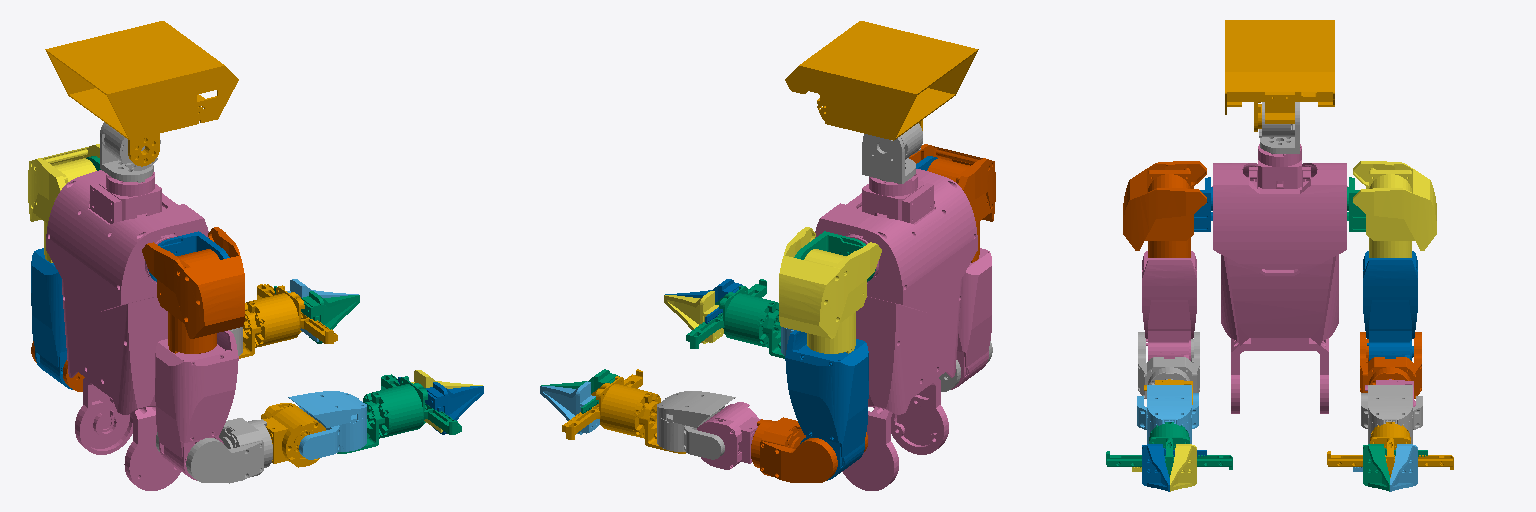
The robot description file, URDF, robot "ARX X7S":
<?xml version="1.0" ?>
<!-- =================================================================================== -->
<!-- |    This document was autogenerated by xacro from robot.xacro                    | -->
<!-- |    EDITING THIS FILE BY HAND IS NOT RECOMMENDED                                 | -->
<!-- =================================================================================== -->
<robot name="ARX X7S">
  <link name="base_link">
    <inertial>
      <origin xyz="-0.061403 0.00062999 0.18169"/>
      <mass value="27.286"/>
      <inertia ixx="1.61101" ixy="0.00464" ixz="-0.16195" iyy="1.99174" iyz="0.00823" izz="1.07279"/>
    </inertial>
    <visual>
      <geometry>
        <mesh filename="package://arx_x7s_description/meshes/base/base_link.obj"/>
      </geometry>
    </visual>
    <collision>
      <geometry>
        <mesh filename="package://arx_x7s_description/meshes/base/base_link.obj"/>
      </geometry>
    </collision>
  </link>
  <link name="lift">
    <inertial>
      <origin xyz="-0.010805 -0.00069779 -0.059694"/>
      <mass value="6.205"/>
      <inertia ixx="0.01994" ixy="-0.00008" ixz="-0.00198" iyy="0.06039" iyz="-0.00016" izz="0.06721"/>
    </inertial>
    <visual>
      <geometry>
        <mesh filename="package://arx_x7s_description/meshes/base/lift.obj"/>
      </geometry>
    </visual>
    <collision>
      <geometry>
        <mesh filename="package://arx_x7s_description/meshes/base/lift.obj"/>
      </geometry>
    </collision>
  </link>
  <joint name="lift_joint" type="prismatic">
    <origin xyz="0.096 0 0.31"/>
    <parent link="base_link"/>
    <child link="lift"/>
    <axis xyz="0 0 1"/>
    <limit effort="100" lower="0" upper="0.54" velocity="5"/>
  </joint>
  <!-- 轮子链接 -->
  <link name="wheel_1">
    <inertial>
      <origin xyz="0.0026089441594678298 -1.3189703553351252e-07 2.8695680726054107e-07"/>
      <mass value="4.24803000494366"/>
      <inertia ixx="0.012235" ixy="-0.0" ixz="0.0" iyy="0.006629" iyz="0.0" izz="0.006629"/>
    </inertial>
    <visual>
      <geometry>
        <mesh filename="package://arx_lift_description/meshes/base/wheel.obj"/>
      </geometry>
    </visual>
    <collision>
      <geometry>
        <mesh filename="package://arx_lift_description/meshes/base/wheel.obj"/>
      </geometry>
    </collision>
  </link>
  <!-- 轮子链接 -->
  <link name="wheel_2">
    <inertial>
      <origin xyz="0.0026089441594678298 -1.3189703553351252e-07 2.8695680726054107e-07"/>
      <mass value="4.24803000494366"/>
      <inertia ixx="0.012235" ixy="-0.0" ixz="0.0" iyy="0.006629" iyz="0.0" izz="0.006629"/>
    </inertial>
    <visual>
      <geometry>
        <mesh filename="package://arx_lift_description/meshes/base/wheel.obj"/>
      </geometry>
    </visual>
    <collision>
      <geometry>
        <mesh filename="package://arx_lift_description/meshes/base/wheel.obj"/>
      </geometry>
    </collision>
  </link>
  <!-- 轮子链接 -->
  <link name="wheel_3">
    <inertial>
      <origin xyz="0.0026089441594678298 -1.3189703553351252e-07 2.8695680726054107e-07"/>
      <mass value="4.24803000494366"/>
      <inertia ixx="0.012235" ixy="-0.0" ixz="0.0" iyy="0.006629" iyz="0.0" izz="0.006629"/>
    </inertial>
    <visual>
      <geometry>
        <mesh filename="package://arx_lift_description/meshes/base/wheel.obj"/>
      </geometry>
    </visual>
    <collision>
      <geometry>
        <mesh filename="package://arx_lift_description/meshes/base/wheel.obj"/>
      </geometry>
    </collision>
  </link>
  <!-- 轮子链接 -->
  <link name="wheel_4">
    <inertial>
      <origin xyz="0.0026089441594678298 -1.3189703553351252e-07 2.8695680726054107e-07"/>
      <mass value="4.24803000494366"/>
      <inertia ixx="0.012235" ixy="-0.0" ixz="0.0" iyy="0.006629" iyz="0.0" izz="0.006629"/>
    </inertial>
    <visual>
      <geometry>
        <mesh filename="package://arx_lift_description/meshes/base/wheel.obj"/>
      </geometry>
    </visual>
    <collision>
      <geometry>
        <mesh filename="package://arx_lift_description/meshes/base/wheel.obj"/>
      </geometry>
    </collision>
  </link>
  <!-- 轮子关节定义 -->
  <joint name="wheel1_joint" type="fixed">
    <origin rpy="0.0 0.0 -2.356194490192345" xyz="0.21 0.17 0.025"/>
    <parent link="base_link"/>
    <child link="wheel_1"/>
  </joint>
  <joint name="wheel2_joint" type="fixed">
    <origin rpy="0.0 0.0 -0.7853981633974483" xyz="-0.21 0.17 0.025"/>
    <parent link="base_link"/>
    <child link="wheel_2"/>
  </joint>
  <joint name="wheel3_joint" type="fixed">
    <origin rpy="0.0 0.0 0.7853981633974483" xyz="-0.21 -0.17 0.025"/>
    <parent link="base_link"/>
    <child link="wheel_3"/>
  </joint>
  <joint name="wheel4_joint" type="fixed">
    <origin rpy="0.0 0.0 2.356194490192345" xyz="0.21 -0.17 0.025"/>
    <parent link="base_link"/>
    <child link="wheel_4"/>
  </joint>
  <link name="body">
    <inertial>
      <origin xyz="-0.000779578835400224 0.053760645280584 0.220464314501233"/>
      <mass value="3.01262653552798"/>
      <inertia ixx="0.03987" ixy="0.00000" ixz="-0.00003" iyy="0.03461" iyz="0.00039" izz="0.00967"/>
    </inertial>
    <visual>
      <geometry>
        <mesh filename="package://arx_x7s_description/meshes/base/body.obj"/>
      </geometry>
    </visual>
    <collision>
      <geometry>
        <mesh filename="package://arx_x7s_description/meshes/base/body.obj"/>
      </geometry>
    </collision>
  </link>
  <joint name="body_joint" type="revolute">
    <origin xyz="0.066 -0.0546 -0.06"/>
    <parent link="lift"/>
    <child link="body"/>
    <axis xyz="0 1 0"/>
    <limit effort="100" lower="0" upper="1.57" velocity="5"/>
  </joint>
  <link name="neck">
    <inertial>
      <origin xyz="-1.2166451790474E-08 0.000155101086835956 0.0414775143344981"/>
      <mass value="0.429406588376073"/>
      <inertia ixx="0.00027" ixy="0.00000" ixz="0.00000" iyy="0.00026" iyz="-0.00001" izz="0.00018"/>
    </inertial>
    <visual>
      <geometry>
        <mesh filename="package://arx_lift_description/meshes/body/neck.obj"/>
      </geometry>
    </visual>
    <collision>
      <geometry>
        <mesh filename="package://arx_lift_description/meshes/body/neck.obj"/>
      </geometry>
    </collision>
  </link>
  <joint name="head_joint1" type="revolute">
    <origin xyz="0 0.0544 0.356"/>
    <parent link="body"/>
    <child link="neck"/>
    <axis xyz="0 0 1"/>
    <limit effort="100" lower="-1.570796" upper="1.570796" velocity="100"/>
  </joint>
  <link name="head">
    <inertial>
      <origin xyz="0.0145474612596931 0.0229595215513494 0.0787914285814235"/>
      <mass value="1.54420437039843"/>
      <inertia ixx="0.00576" ixy="-0.00007" ixz="0.00018" iyy="0.00477" iyz="0.00015" izz="0.00768"/>
    </inertial>
    <visual>
      <geometry>
        <mesh filename="package://arx_lift_description/meshes/body/head.obj"/>
      </geometry>
    </visual>
    <collision>
      <geometry>
        <mesh filename="package://arx_lift_description/meshes/body/head.obj"/>
      </geometry>
    </collision>
  </link>
  <joint name="head_joint2" type="revolute">
    <origin xyz="0 -0.025 0.049"/>
    <parent link="neck"/>
    <child link="head"/>
    <axis xyz="0 -1 0"/>
    <limit effort="100" lower="-0.785398" upper="0.785398" velocity="5"/>
  </joint>
  <link name="head_camera">
    <visual>
      <geometry>
        <mesh filename="package://sensor_models/meshes/realsense/d405.glb"/>
      </geometry>
    </visual>
  </link>
  <joint name="head_camera_joint" type="fixed">
    <origin xyz="0.095 0.025 0.06"/>
    <parent link="head"/>
    <child link="head_camera"/>
  </joint>
  <link name="left_mount">
    <inertial>
      <origin xyz="0.0203118776657915 0.0282074621926044 -0.000172803675324795"/>
      <mass value="0.131891884746085"/>
      <inertia ixx="0.00012" ixy="4e-05" ixz="0.00000" iyy="0.00009" iyz="0.00000" izz="0.00014"/>
    </inertial>
    <visual>
      <geometry>
        <mesh filename="package://arx_x7s_description/meshes/arm/base.obj" scale="1 1 1"/>
      </geometry>
    </visual>
    <collision>
      <geometry>
        <mesh filename="package://arx_x7s_description/meshes/arm/base.obj" scale="1 1 1"/>
      </geometry>
    </collision>
  </link>
  <joint name="left_joint1" type="revolute">
    <origin xyz="0 0.1424 0.28"/>
    <parent link="body"/>
    <child link="left_mount"/>
    <axis xyz="0 -1 0"/>
    <limit effort="100" lower="-0.523599" upper="3.141593" velocity="3.141592653589793"/>
  </joint>
  <link name="left_shoulder">
    <inertial>
      <origin xyz="-0.0244518842072319 0.00440119803297737 -0.0251861647177716"/>
      <mass value="1.03161675931573"/>
      <inertia ixx="0.00167" ixy="3e-05" ixz="0.00007" iyy="0.00166" iyz="5e-05" izz="0.00088"/>
    </inertial>
    <visual>
      <geometry>
        <mesh filename="package://arx_x7s_description/meshes/arm/link1.obj" scale="1 1 1"/>
      </geometry>
    </visual>
    <collision>
      <geometry>
        <mesh filename="package://arx_x7s_description/meshes/arm/link1.obj" scale="1 1 1"/>
      </geometry>
    </collision>
  </link>
  <joint name="left_joint2" type="revolute">
    <origin xyz="0.02725 0.063 0"/>
    <parent link="left_mount"/>
    <child link="left_shoulder"/>
    <axis xyz="1 0 0"/>
    <limit effort="100" lower="-0.436332" upper="1.570796" velocity="3.141592653589793"/>
  </joint>
  <link name="left_upper_arm">
    <inertial>
      <origin xyz="0.000827778295739684 -0.00148365067233044 -0.105295191761956"/>
      <mass value="0.736099125577072"/>
      <inertia ixx="0.00229" ixy="0.00000" ixz="0.00009" iyy="0.00230" iyz="4e-05" izz="0.00060"/>
    </inertial>
    <visual>
      <geometry>
        <mesh filename="package://arx_x7s_description/meshes/arm/link2.obj"/>
      </geometry>
    </visual>
    <collision>
      <geometry>
        <mesh filename="package://arx_x7s_description/meshes/arm/link2.obj"/>
      </geometry>
    </collision>
  </link>
  <joint name="left_joint3" type="revolute">
    <origin xyz="-0.02725 0 -0.0865"/>
    <parent link="left_shoulder"/>
    <child link="left_upper_arm"/>
    <axis xyz="0 0 -1"/>
    <limit effort="100" lower="-1.570796" upper="1.570796" velocity="3.141592653589793"/>
  </joint>
  <link name="left_elbow">
    <inertial>
      <origin xyz="0.0593724453089232 0.0253235620813382 -0.0125969681001941"/>
      <mass value="0.487506795308259"/>
      <inertia ixx="0.00040" ixy="3e-05" ixz="-0.00007" iyy="0.00055" iyz="-1e-05" izz="0.00069"/>
    </inertial>
    <visual>
      <geometry>
        <mesh filename="package://arx_x7s_description/meshes/arm/link3.obj" scale="1 1 1"/>
      </geometry>
    </visual>
    <collision>
      <geometry>
        <mesh filename="package://arx_x7s_description/meshes/arm/link3.obj" scale="1 1 1"/>
      </geometry>
    </collision>
  </link>
  <joint name="left_joint4" type="revolute">
    <origin xyz="0 -0.02725 -0.1435"/>
    <parent link="left_upper_arm"/>
    <child link="left_elbow"/>
    <axis xyz="0 1 0"/>
    <limit effort="100" lower="-0.785398" upper="1.570796" velocity="3.141592653589793"/>
  </joint>
  <link name="left_forearm">
    <inertial>
      <origin xyz="0.0458969495196738 -0.000535552755431795 -9.66305755581987E-05"/>
      <mass value="0.487431771518004"/>
      <inertia ixx="0.00024" ixy="0.00000" ixz="0.00000" iyy="0.00027" iyz="0.00000" izz="0.00029"/>
    </inertial>
    <visual>
      <geometry>
        <mesh filename="package://arx_x7s_description/meshes/arm/link4.obj"/>
      </geometry>
    </visual>
    <collision>
      <geometry>
        <mesh filename="package://arx_x7s_description/meshes/arm/link4.obj"/>
      </geometry>
    </collision>
  </link>
  <joint name="left_joint5" type="revolute">
    <origin xyz="0.0945 0.02725 -0.015"/>
    <parent link="left_elbow"/>
    <child link="left_forearm"/>
    <axis xyz="1 0 0"/>
    <limit effort="100" lower="-2.792527" upper="2.792527" velocity="3.141592653589793"/>
  </joint>
  <link name="left_wrist">
    <inertial>
      <origin xyz="0.0575036493913677 0.0264951119112793 0.00135889493052876"/>
      <mass value="0.432944265521347"/>
      <inertia ixx="0.00025" ixy="2e-05" ixz="-0.00002" iyy="0.00033" iyz="0.00000" izz="0.00041"/>
    </inertial>
    <visual>
      <geometry>
        <mesh filename="package://arx_x7s_description/meshes/arm/link5.obj" scale="1 1 1"/>
      </geometry>
    </visual>
    <collision>
      <geometry>
        <mesh filename="package://arx_x7s_description/meshes/arm/link5.obj" scale="1 1 1"/>
      </geometry>
    </collision>
  </link>
  <joint name="left_joint6" type="revolute">
    <origin xyz="0.05 -0.02725 0"/>
    <parent link="left_forearm"/>
    <child link="left_wrist"/>
    <axis xyz="0 -1 0"/>
    <limit effort="100" lower="-0.785398" upper="1.570796" velocity="3.141592653589793"/>
  </joint>
  <link name="left_gripper_base">
    <inertial>
      <origin xyz="0.0782374674886107 2.27688611500743E-05 0.0203907673011059"/>
      <mass value="0.471847835335863"/>
      <inertia ixx="0.00040" ixy="0.00000" ixz="0.00006" iyy="0.00043" iyz="0.00000" izz="0.00064"/>
    </inertial>
    <visual>
      <geometry>
        <mesh filename="package://arx_x7s_description/meshes/gripper/gripper_base.obj"/>
      </geometry>
    </visual>
    <collision>
      <geometry>
        <mesh filename="package://arx_x7s_description/meshes/gripper/gripper_base.obj"/>
      </geometry>
    </collision>
  </link>
  <joint name="left_joint7" type="revolute">
    <origin xyz="0.066 0.02725 -0.022"/>
    <parent link="left_wrist"/>
    <child link="left_gripper_base"/>
    <axis xyz="0 0 -1"/>
    <limit effort="100" lower="-1.570796" upper="1.570796" velocity="100"/>
  </joint>
  <link name="left_gripper_left">
    <inertial>
      <origin xyz="-0.000355222592141713 -0.00782703850949387 -0.00298831676915334"/>
      <mass value="0.0647981743053201"/>
      <inertia ixx="0.00002" ixy="0.00000" ixz="0.00000" iyy="0.00003" iyz="0.00000" izz="0.00003"/>
    </inertial>
    <visual>
      <geometry>
        <mesh filename="package://arx_x7s_description/meshes/gripper/gripper_left.obj"/>
      </geometry>
    </visual>
    <collision>
      <geometry>
        <mesh filename="package://arx_x7s_description/meshes/gripper/gripper_left.obj"/>
      </geometry>
    </collision>
  </link>
  <joint name="left_gripper_joint" type="prismatic">
    <origin xyz="0.12737 0.024896 0.021756"/>
    <parent link="left_gripper_base"/>
    <child link="left_gripper_left"/>
    <axis xyz="0 1 0"/>
    <limit effort="100" lower="0" upper="0.044" velocity="100"/>
  </joint>
  <link name="left_gripper_right">
    <inertial>
      <origin xyz="-0.000355223470276722 0.00782768741060949 0.00242005652832489"/>
      <mass value="0.0647981725781686"/>
      <inertia ixx="0.00002" ixy="0.00000" ixz="0.00000" iyy="0.00003" iyz="0.00000" izz="0.00003"/>
    </inertial>
    <visual>
      <geometry>
        <mesh filename="package://arx_x7s_description/meshes/gripper/gripper_right.obj"/>
      </geometry>
    </visual>
    <collision>
      <geometry>
        <mesh filename="package://arx_x7s_description/meshes/gripper/gripper_right.obj"/>
      </geometry>
    </collision>
  </link>
  <joint name="left_gripper_1" type="prismatic">
    <origin xyz="0.12737 -0.0249 0.021756"/>
    <parent link="left_gripper_base"/>
    <child link="left_gripper_right"/>
    <axis xyz="0 -1 0"/>
    <limit effort="100" lower="0" upper="0.044" velocity="100"/>
    <mimic joint="left_gripper_joint" multiplier="1" offset="0"/>
  </joint>
  <link name="left_eef"/>
  <joint name="left_eef_joint" type="fixed">
    <origin xyz="0.18737 0 0.021756"/>
    <parent link="left_gripper_base"/>
    <child link="left_eef"/>
  </joint>
  <link name="right_mount">
    <inertial>
      <origin xyz="0.0203118776657915 -0.0282074621926044 -0.000172803675324795"/>
      <mass value="0.131891884746085"/>
      <inertia ixx="0.00012" ixy="-4e-05" ixz="0.00000" iyy="0.00009" iyz="0.00000" izz="0.00014"/>
    </inertial>
    <visual>
      <geometry>
        <mesh filename="package://arx_x7s_description/meshes/arm/base.obj" scale="1 -1 1"/>
      </geometry>
    </visual>
    <collision>
      <geometry>
        <mesh filename="package://arx_x7s_description/meshes/arm/base.obj" scale="1 -1 1"/>
      </geometry>
    </collision>
  </link>
  <joint name="right_joint1" type="revolute">
    <origin xyz="0 -0.0336 0.28"/>
    <parent link="body"/>
    <child link="right_mount"/>
    <axis xyz="0 -1 0"/>
    <limit effort="100" lower="-0.523599" upper="3.141593" velocity="3.141592653589793"/>
  </joint>
  <link name="right_shoulder">
    <inertial>
      <origin xyz="-0.0244518842072319 -0.00440119803297737 -0.0251861647177716"/>
      <mass value="1.03161675931573"/>
      <inertia ixx="0.00167" ixy="-3e-05" ixz="0.00007" iyy="0.00166" iyz="-5e-05" izz="0.00088"/>
    </inertial>
    <visual>
      <geometry>
        <mesh filename="package://arx_x7s_description/meshes/arm/link1.obj" scale="1 -1 1"/>
      </geometry>
    </visual>
    <collision>
      <geometry>
        <mesh filename="package://arx_x7s_description/meshes/arm/link1.obj" scale="1 -1 1"/>
      </geometry>
    </collision>
  </link>
  <joint name="right_joint2" type="revolute">
    <origin xyz="0.02725 -0.063 0"/>
    <parent link="right_mount"/>
    <child link="right_shoulder"/>
    <axis xyz="-1 0 0"/>
    <limit effort="100" lower="-0.436332" upper="1.570796" velocity="3.141592653589793"/>
  </joint>
  <link name="right_upper_arm">
    <inertial>
      <origin xyz="0.000827778295739684 0.00148365067233044 -0.105295191761956"/>
      <mass value="0.736099125577072"/>
      <inertia ixx="0.00229" ixy="0.00000" ixz="0.00009" iyy="0.00230" iyz="-4e-05" izz="0.00060"/>
    </inertial>
    <visual>
      <geometry>
        <mesh filename="package://arx_x7s_description/meshes/arm/link2.obj"/>
      </geometry>
    </visual>
    <collision>
      <geometry>
        <mesh filename="package://arx_x7s_description/meshes/arm/link2.obj"/>
      </geometry>
    </collision>
  </link>
  <joint name="right_joint3" type="revolute">
    <origin xyz="-0.02725 0 -0.0865"/>
    <parent link="right_shoulder"/>
    <child link="right_upper_arm"/>
    <axis xyz="0 0 1"/>
    <limit effort="100" lower="-1.570796" upper="1.570796" velocity="3.141592653589793"/>
  </joint>
  <link name="right_elbow">
    <inertial>
      <origin xyz="0.0593724453089232 -0.0253235620813382 -0.0125969681001941"/>
      <mass value="0.487506795308259"/>
      <inertia ixx="0.00040" ixy="-3e-05" ixz="-0.00007" iyy="0.00055" iyz="1e-05" izz="0.00069"/>
    </inertial>
    <visual>
      <geometry>
        <mesh filename="package://arx_x7s_description/meshes/arm/link3.obj" scale="1 -1 1"/>
      </geometry>
    </visual>
    <collision>
      <geometry>
        <mesh filename="package://arx_x7s_description/meshes/arm/link3.obj" scale="1 -1 1"/>
      </geometry>
    </collision>
  </link>
  <joint name="right_joint4" type="revolute">
    <origin xyz="0 0.02725 -0.1435"/>
    <parent link="right_upper_arm"/>
    <child link="right_elbow"/>
    <axis xyz="0 1 0"/>
    <limit effort="100" lower="-0.785398" upper="1.570796" velocity="3.141592653589793"/>
  </joint>
  <link name="right_forearm">
    <inertial>
      <origin xyz="0.0458969495196738 0.000535552755431795 -9.66305755581987E-05"/>
      <mass value="0.487431771518004"/>
      <inertia ixx="0.00024" ixy="0.00000" ixz="0.00000" iyy="0.00027" iyz="0.00000" izz="0.00029"/>
    </inertial>
    <visual>
      <geometry>
        <mesh filename="package://arx_x7s_description/meshes/arm/link4.obj"/>
      </geometry>
    </visual>
    <collision>
      <geometry>
        <mesh filename="package://arx_x7s_description/meshes/arm/link4.obj"/>
      </geometry>
    </collision>
  </link>
  <joint name="right_joint5" type="revolute">
    <origin xyz="0.0945 -0.02725 -0.015"/>
    <parent link="right_elbow"/>
    <child link="right_forearm"/>
    <axis xyz="1 0 0"/>
    <limit effort="100" lower="-2.792527" upper="2.792527" velocity="3.141592653589793"/>
  </joint>
  <link name="right_wrist">
    <inertial>
      <origin xyz="0.0575036493913677 -0.0264951119112793 0.00135889493052876"/>
      <mass value="0.432944265521347"/>
      <inertia ixx="0.00025" ixy="-2e-05" ixz="-0.00002" iyy="0.00033" iyz="0.00000" izz="0.00041"/>
    </inertial>
    <visual>
      <geometry>
        <mesh filename="package://arx_x7s_description/meshes/arm/link5.obj" scale="1 -1 1"/>
      </geometry>
    </visual>
    <collision>
      <geometry>
        <mesh filename="package://arx_x7s_description/meshes/arm/link5.obj" scale="1 -1 1"/>
      </geometry>
    </collision>
  </link>
  <joint name="right_joint6" type="revolute">
    <origin xyz="0.05 0.02725 0"/>
    <parent link="right_forearm"/>
    <child link="right_wrist"/>
    <axis xyz="0 -1 0"/>
    <limit effort="100" lower="-0.785398" upper="1.570796" velocity="3.141592653589793"/>
  </joint>
  <link name="right_gripper_base">
    <inertial>
      <origin xyz="0.0782374674886107 2.27688611500743E-05 0.0203907673011059"/>
      <mass value="0.471847835335863"/>
      <inertia ixx="0.00040" ixy="0.00000" ixz="0.00006" iyy="0.00043" iyz="0.00000" izz="0.00064"/>
    </inertial>
    <visual>
      <geometry>
        <mesh filename="package://arx_x7s_description/meshes/gripper/gripper_base.obj"/>
      </geometry>
    </visual>
    <collision>
      <geometry>
        <mesh filename="package://arx_x7s_description/meshes/gripper/gripper_base.obj"/>
      </geometry>
    </collision>
  </link>
  <joint name="right_joint7" type="revolute">
    <origin xyz="0.066 -0.02725 -0.022"/>
    <parent link="right_wrist"/>
    <child link="right_gripper_base"/>
    <axis xyz="0 0 1"/>
    <limit effort="100" lower="-1.570796" upper="1.570796" velocity="100"/>
  </joint>
  <link name="right_gripper_left">
    <inertial>
      <origin xyz="-0.000355222592141713 -0.00782703850949387 -0.00298831676915334"/>
      <mass value="0.0647981743053201"/>
      <inertia ixx="0.00002" ixy="0.00000" ixz="0.00000" iyy="0.00003" iyz="0.00000" izz="0.00003"/>
    </inertial>
    <visual>
      <geometry>
        <mesh filename="package://arx_x7s_description/meshes/gripper/gripper_left.obj"/>
      </geometry>
    </visual>
    <collision>
      <geometry>
        <mesh filename="package://arx_x7s_description/meshes/gripper/gripper_left.obj"/>
      </geometry>
    </collision>
  </link>
  <joint name="right_gripper_joint" type="prismatic">
    <origin xyz="0.12737 0.024896 0.021756"/>
    <parent link="right_gripper_base"/>
    <child link="right_gripper_left"/>
    <axis xyz="0 1 0"/>
    <limit effort="100" lower="0" upper="0.044" velocity="100"/>
  </joint>
  <link name="right_gripper_right">
    <inertial>
      <origin xyz="-0.000355223470276722 0.00782768741060949 0.00242005652832489"/>
      <mass value="0.0647981725781686"/>
      <inertia ixx="0.00002" ixy="0.00000" ixz="0.00000" iyy="0.00003" iyz="0.00000" izz="0.00003"/>
    </inertial>
    <visual>
      <geometry>
        <mesh filename="package://arx_x7s_description/meshes/gripper/gripper_right.obj"/>
      </geometry>
    </visual>
    <collision>
      <geometry>
        <mesh filename="package://arx_x7s_description/meshes/gripper/gripper_right.obj"/>
      </geometry>
    </collision>
  </link>
  <joint name="right_gripper_1" type="prismatic">
    <origin xyz="0.12737 -0.0249 0.021756"/>
    <parent link="right_gripper_base"/>
    <child link="right_gripper_right"/>
    <axis xyz="0 -1 0"/>
    <limit effort="100" lower="0" upper="0.044" velocity="100"/>
    <mimic joint="right_gripper_joint" multiplier="1" offset="0"/>
  </joint>
  <link name="right_eef"/>
  <joint name="right_eef_joint" type="fixed">
    <origin xyz="0.18737 0 0.021756"/>
    <parent link="right_gripper_base"/>
    <child link="right_eef"/>
  </joint>
</robot>

--- Render facts (derived) ---
3 views of the same robot in one strip: view 1: azimuth 30°, elevation 25°; view 2: azimuth 150°, elevation 25°; view 3: azimuth 270°, elevation 25° (orthographic).
Robot: ARX X7S — 30 links, 29 joints (17 revolute, 5 prismatic, 7 fixed); root link base_link; default pose: all joints at 0.
Visible links, largest first — view 1: body, head, right_shoulder, right_upper_arm, right_elbow, right_gripper_base, right_wrist, left_gripper_base, left_upper_arm, left_shoulder, right_forearm, neck (+3 smaller); view 2: body, head, left_shoulder, left_upper_arm, left_elbow, left_gripper_base, right_gripper_base, left_wrist, right_upper_arm, right_shoulder, neck, left_forearm (+5 smaller); view 3: body, head, left_shoulder, right_shoulder, left_upper_arm, right_upper_arm, left_wrist, right_wrist, right_elbow, left_elbow, left_gripper_base, right_gripper_base (+7 smaller).
Boxes of the visible links, <box> form: body: <box>46,170,208,490</box>; head: <box>45,21,238,166</box>; right_shoulder: <box>142,227,244,353</box>; right_upper_arm: <box>155,330,238,480</box>; right_elbow: <box>156,418,272,483</box>; right_gripper_base: <box>337,374,461,453</box>; right_wrist: <box>288,391,366,459</box>; left_gripper_base: <box>239,284,337,358</box>; left_upper_arm: <box>31,248,72,389</box>; left_shoulder: <box>28,144,99,262</box>; right_forearm: <box>261,403,325,467</box>; neck: <box>100,122,160,182</box>; body: <box>815,169,977,490</box>; head: <box>785,21,978,140</box>; left_shoulder: <box>779,227,881,353</box>; left_upper_arm: <box>785,330,868,480</box>; left_elbow: <box>751,417,867,482</box>; left_gripper_base: <box>562,369,685,453</box>; right_gripper_base: <box>686,279,784,358</box>; left_wrist: <box>657,391,735,459</box>; right_upper_arm: <box>951,248,991,389</box>; right_shoulder: <box>909,144,995,262</box>; neck: <box>862,123,922,183</box>; left_forearm: <box>697,402,760,469</box>; body: <box>1212,144,1347,413</box>; head: <box>1225,20,1334,131</box>; left_shoulder: <box>1353,161,1436,257</box>; right_shoulder: <box>1123,161,1206,257</box>; left_upper_arm: <box>1363,251,1417,360</box>; right_upper_arm: <box>1142,251,1196,360</box>; left_wrist: <box>1361,385,1422,443</box>; right_wrist: <box>1137,385,1198,443</box>; right_elbow: <box>1138,332,1199,398</box>; left_elbow: <box>1360,332,1421,398</box>; left_gripper_base: <box>1327,422,1453,477</box>; right_gripper_base: <box>1106,422,1232,477</box>.
Size in the robot's own frame: 0.4855 by 0.476 by 0.5539 metres.
Meshes: 16 distinct files referenced, 21 mesh visuals loaded (12 OBJ); not drawn: 7 (reference not matched to a file when rendering).
